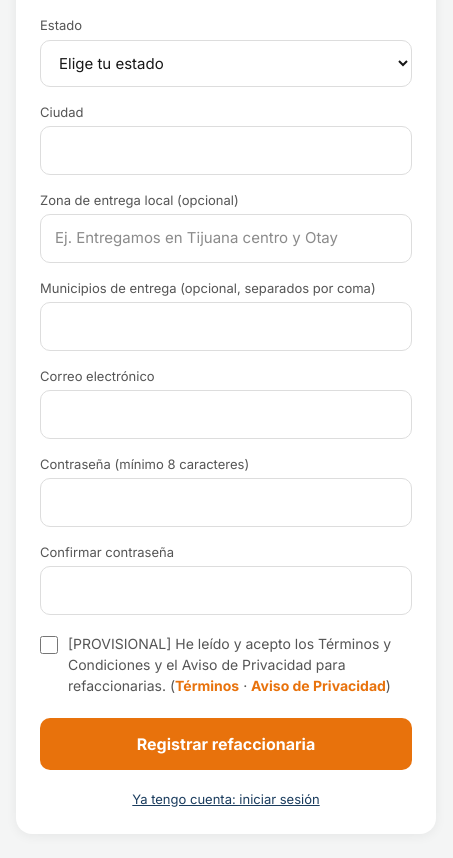
Test: registro › bandera encendida: el formulario con estado, zona de entrega opcional y la casilla (texto provisional)
(page scrolled)
Expected: the field labelled "Zona de entrega local (opcional)" is shown, top-left (40, 214), bottom-right (412, 263)
Expected: the text "[PROVISIONAL] He leído y acepto" is shown, top-left (68, 635), bottom-right (391, 694)
Click the button "Registrar refaccionaria" at (226, 744), box top-left (40, 718), bottom-right (412, 770)
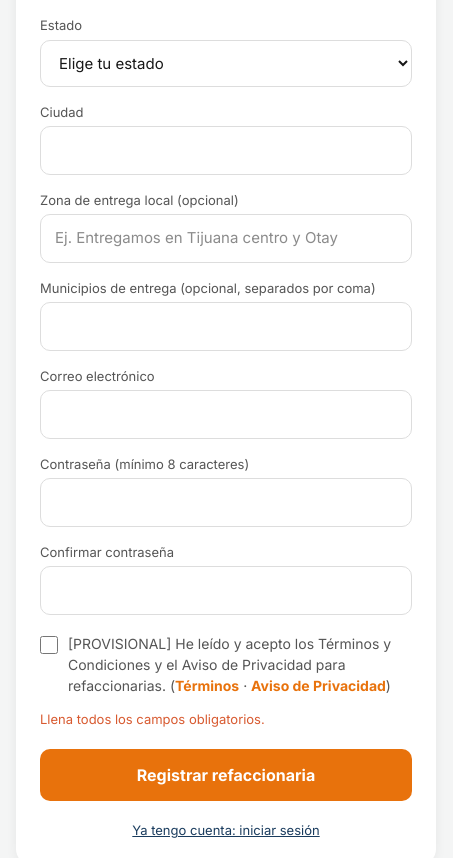
Expected: the message reads "Llena todos los campos obligatorios.", top-left (40, 711), bottom-right (265, 727)
